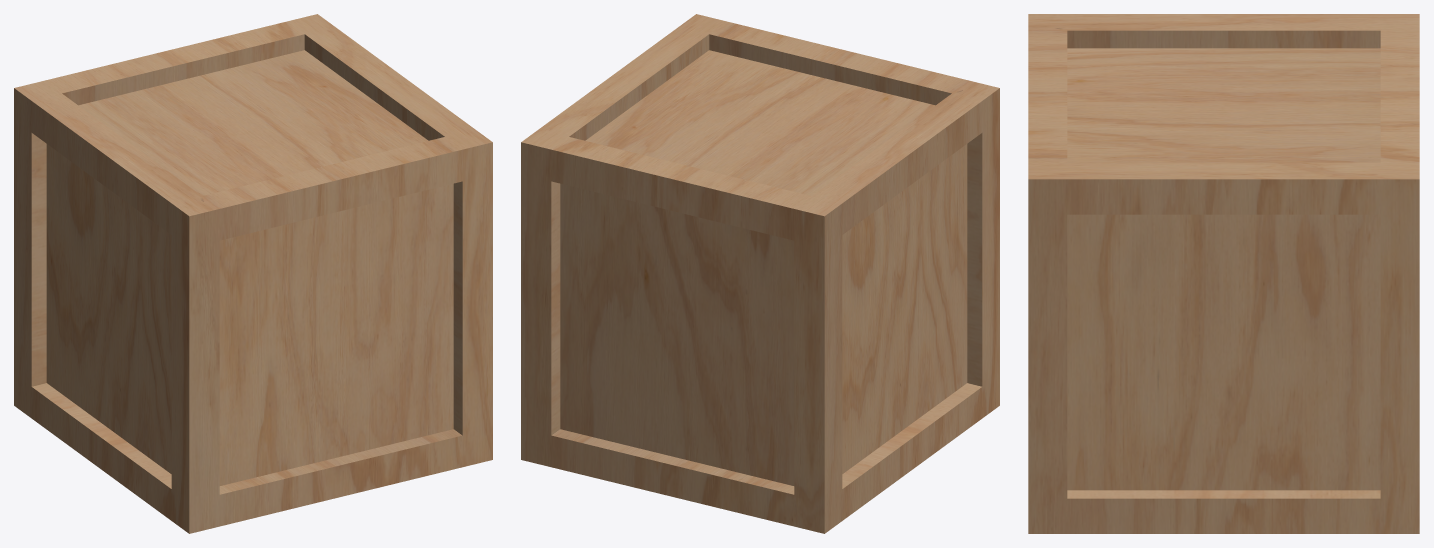
Rendered from wooden_chest.glb.
The picture shows the model from 3 angles, left to right: view 1: azimuth 30°, elevation 25°; view 2: azimuth 150°, elevation 25°; view 3: azimuth 270°, elevation 25°; orthographic projection. The views are drawn at different scales.
Parts seen in each view (by area): view 1: Cube; view 2: Cube; view 3: Cube.
Part boxes in pixels (left/top/right/bottom): Cube: left=14, top=14, right=492, bottom=533; Cube: left=521, top=14, right=999, bottom=533; Cube: left=1028, top=14, right=1419, bottom=533.
Size of the model in its own units: 1 by 1 by 1.
1 material, 1 textured.
